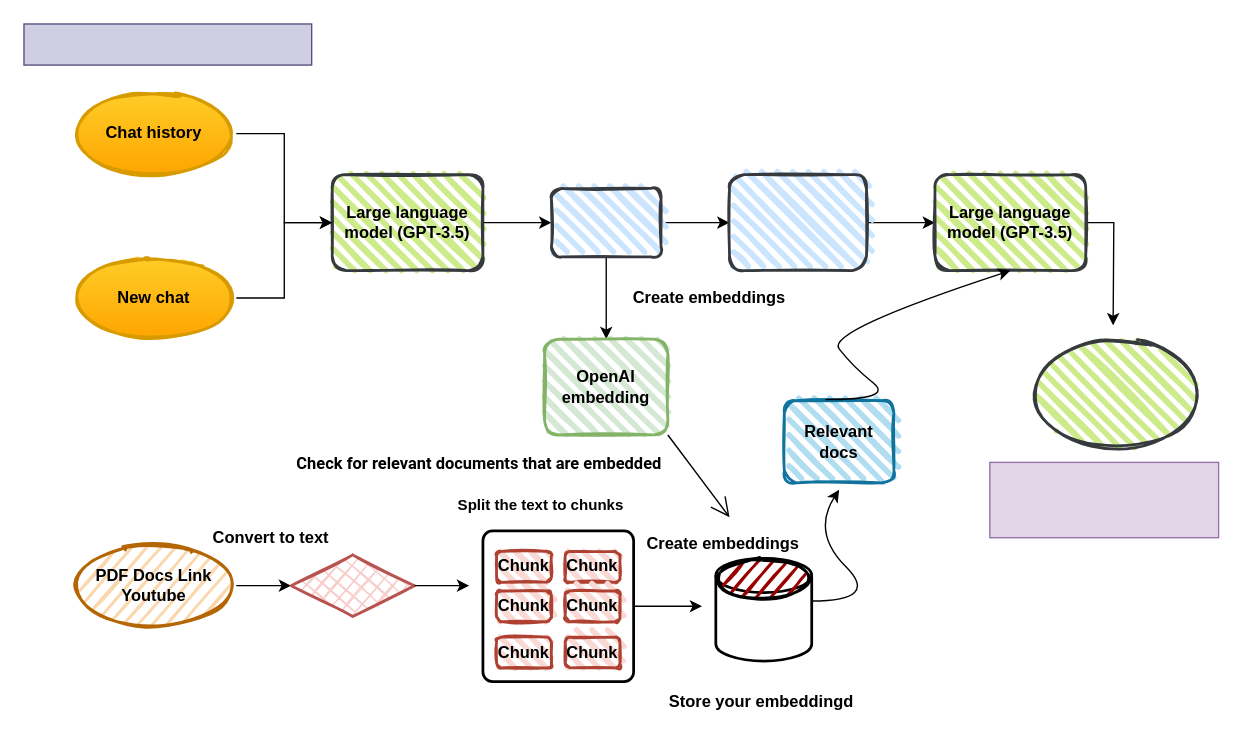
The diagram is 1243 pixels wide and 747 high, and some of its shapes have lost their labels. Each missing label, with the box of its shape:
"To work effectively, consider implementing the following strategies:...": (988, 461, 1219, 538)
ANSWER: (1029, 337, 1203, 449)
How do I work effectively?: (23, 23, 312, 65)
Standalone question: (549, 186, 662, 258)
Standalone question + Relevant docs: (727, 173, 867, 271)
TEXT: (289, 553, 415, 617)
VectorStore: (714, 556, 812, 662)
